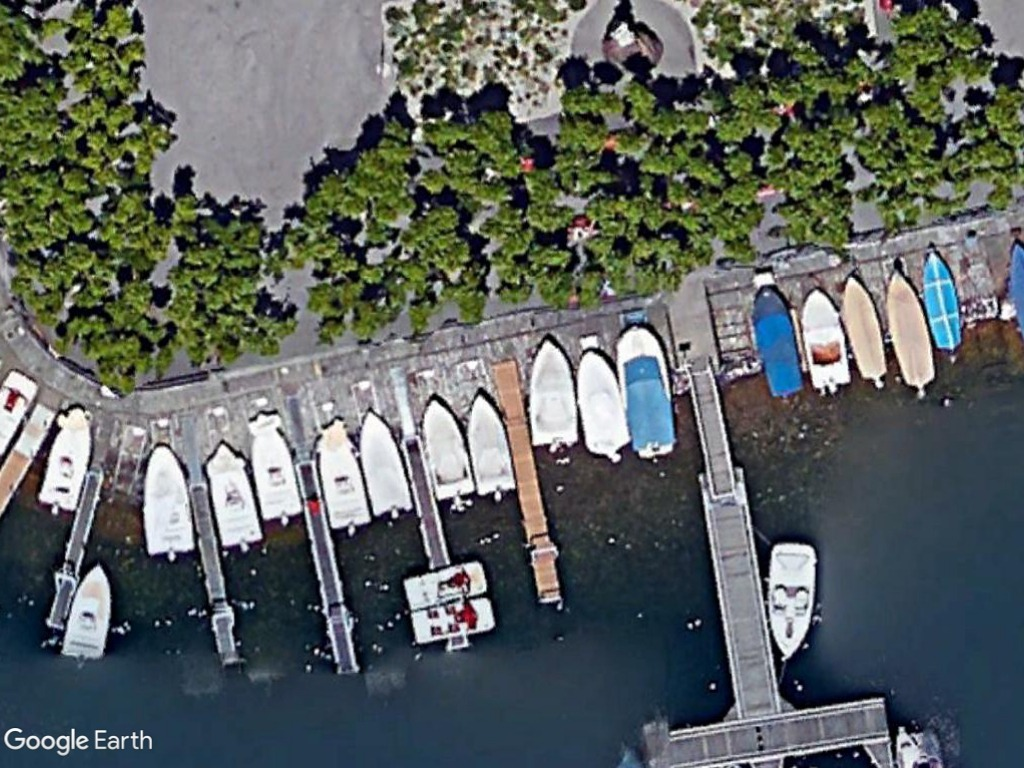boat: (616, 324, 679, 460), (760, 534, 820, 669), (457, 387, 520, 501), (522, 327, 577, 456), (572, 340, 630, 461), (883, 265, 938, 392), (317, 417, 376, 533), (35, 396, 91, 513), (419, 393, 477, 504), (356, 406, 413, 517), (141, 443, 195, 559), (210, 439, 264, 550), (755, 284, 805, 403), (802, 286, 850, 396), (846, 270, 890, 386), (60, 557, 108, 663), (921, 249, 967, 359)
